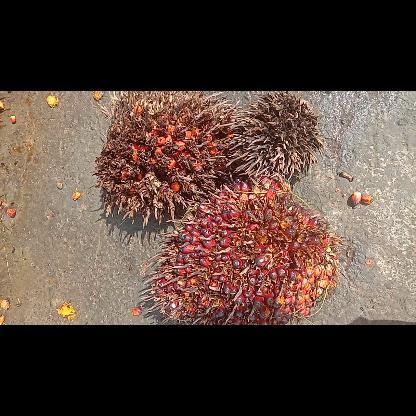Janjang kosong: (229, 90, 325, 180)
TBS masak: (140, 176, 346, 324)
Terlalu masak: (86, 90, 240, 226)
